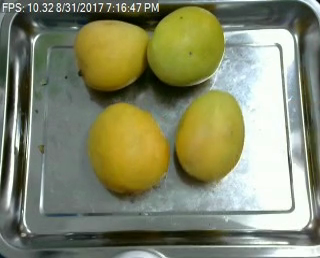Mango: (87, 102, 173, 193), (146, 7, 227, 85), (176, 89, 243, 180), (74, 20, 149, 90)
